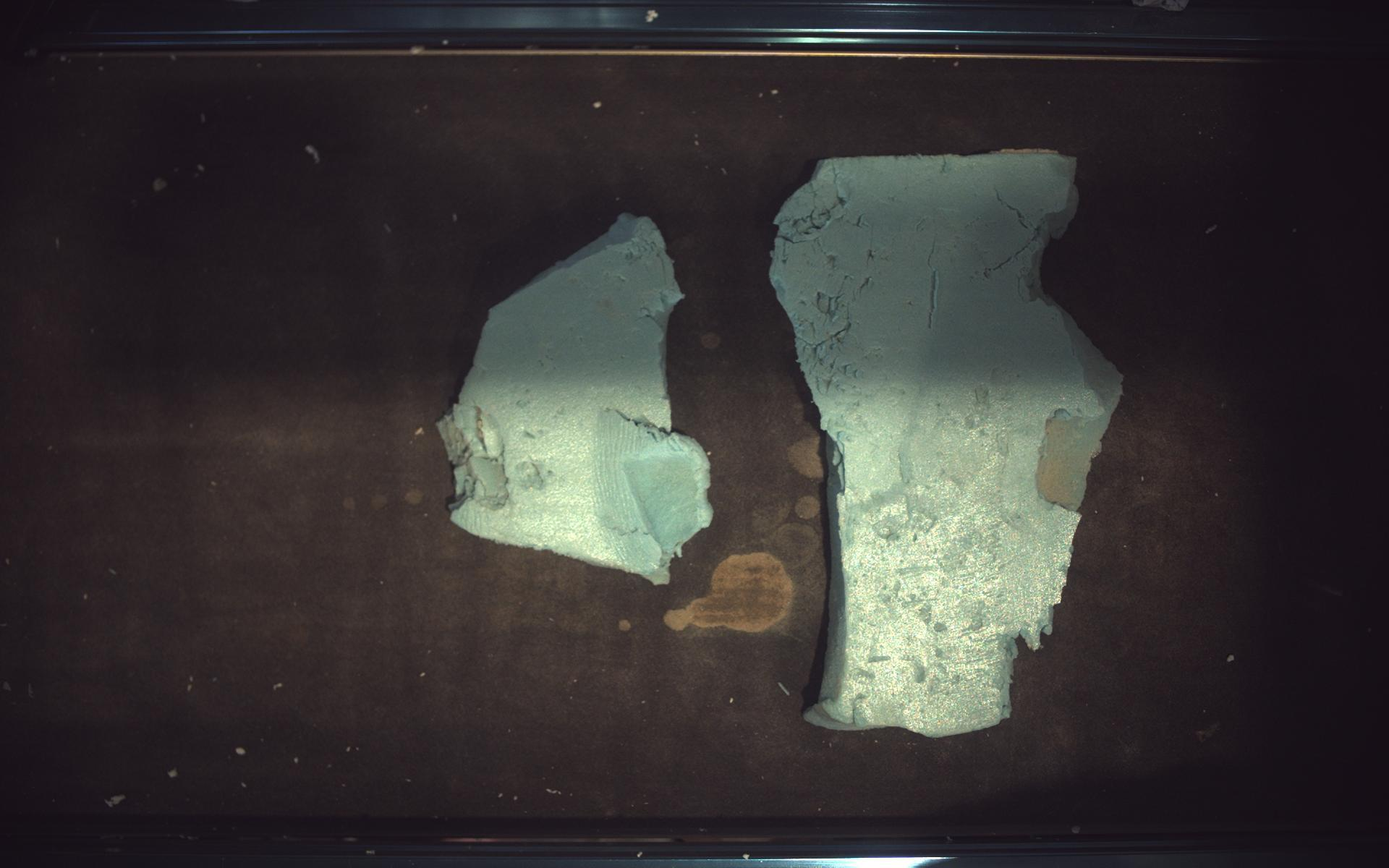foam: (772, 151, 1124, 738), (438, 213, 714, 584)
